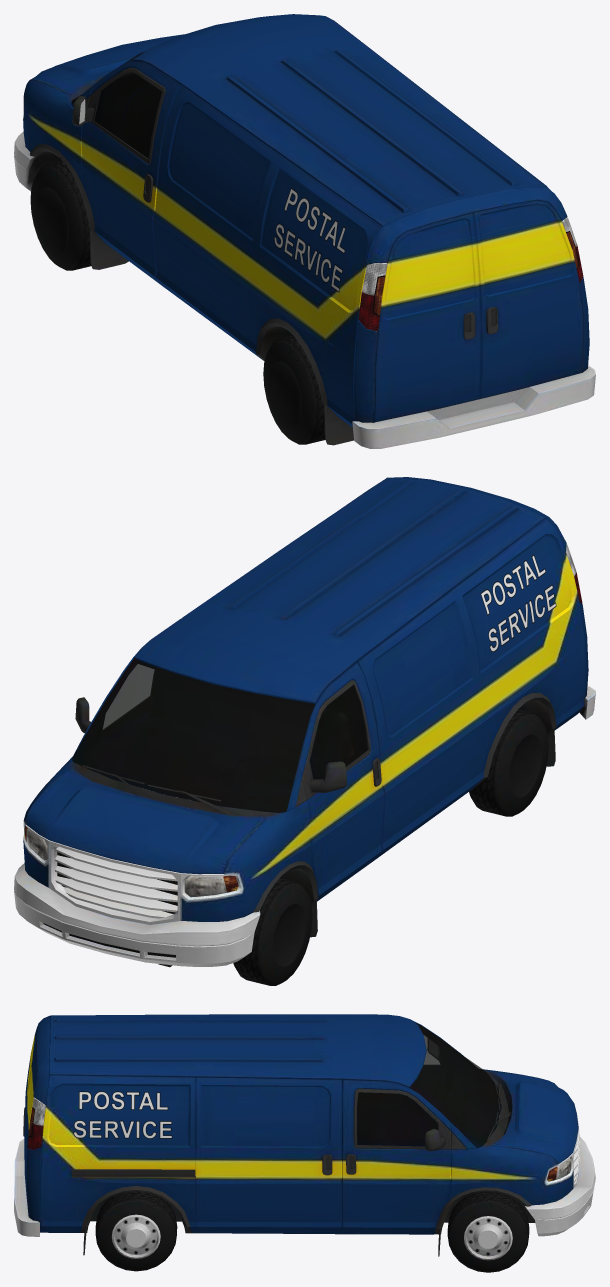
File: postvan.glb
3 renders of one model, top to bottom at view 1: azimuth 30°, elevation 25°; view 2: azimuth 150°, elevation 25°; view 3: azimuth 270°, elevation 25°, orthographic. The views are drawn at different scales.
Parts seen in each view (by area): view 1: postvan, wheel_0, wheel_1; view 2: postvan, wheel_0, wheel_1; view 3: postvan, wheel_3, wheel_2.
Part boxes in pixels (x1,y1,x2,y2): postvan: (14,14,595,448); wheel_0: (30,160,91,270); wheel_1: (263,335,325,444); postvan: (14,477,595,967); wheel_0: (233,877,312,985); wheel_1: (469,709,548,816); postvan: (14,1014,595,1256); wheel_3: (447,1192,529,1272); wheel_2: (95,1191,177,1271).
Bounding box in the file's own units: 2.29 × 2.07 × 5.59.
4 materials, 4 textured.
